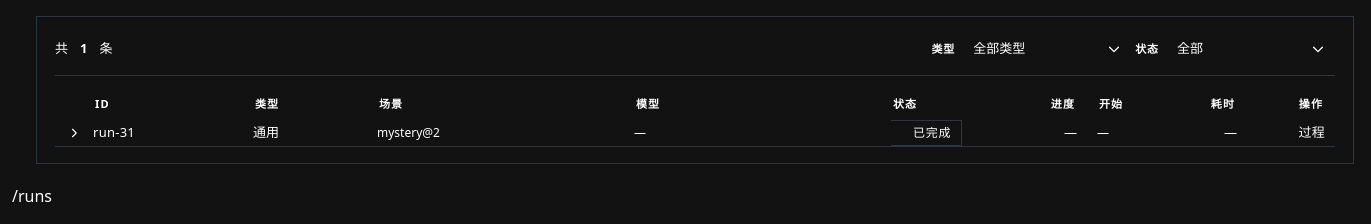
Scenario: RunsOverviewPage › 「过程」入口对未知套件落到通用监控路由
The image size is (1371, 224).
Click the button "过程": (1312, 133) [1298,123,1325,143]
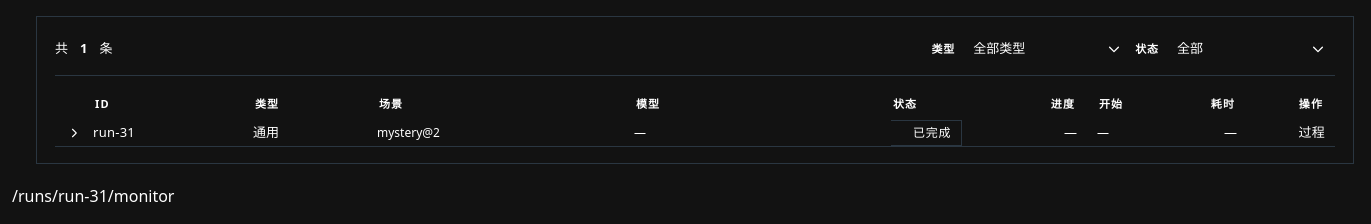
Check: the text with test id "location" reads "/runs/run-31/monitor", box [12,185,174,207]
